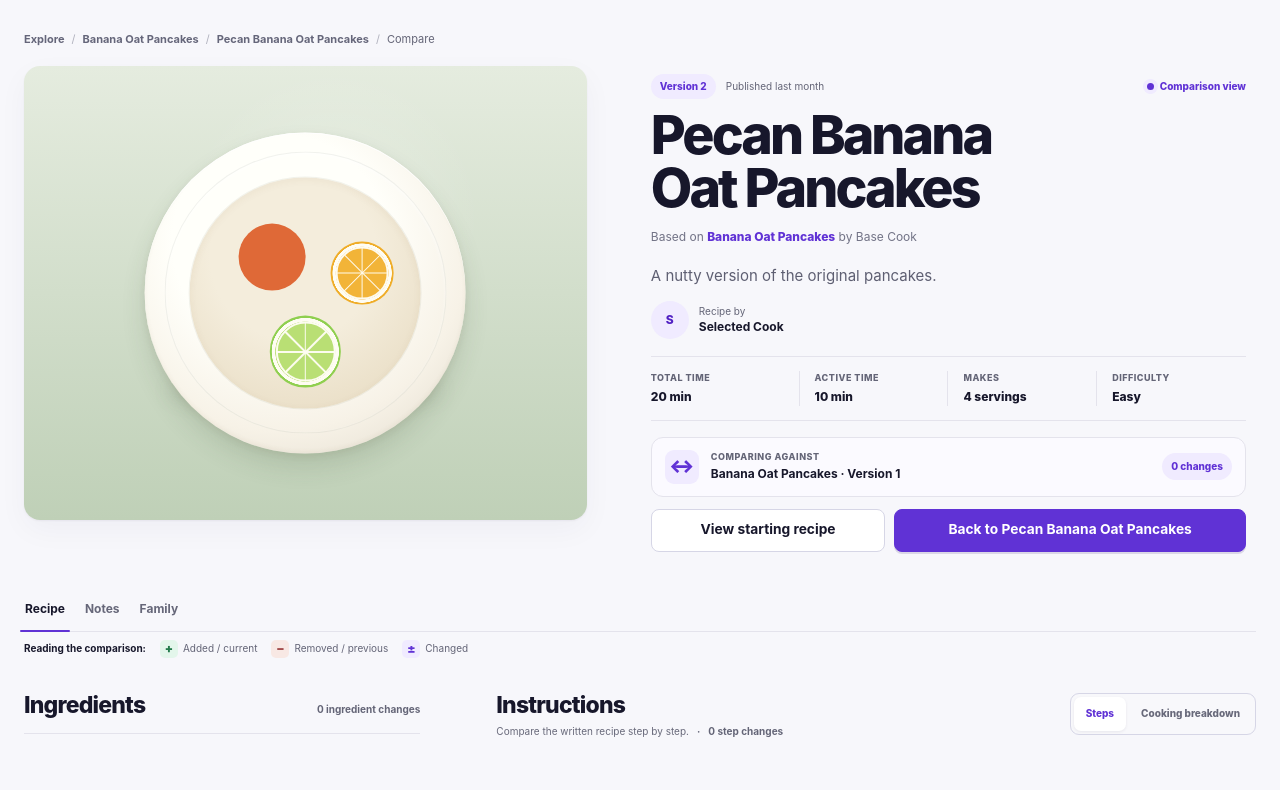
it: RecipeComparePage › keeps the comparison available when the optional family request fails
The image size is (1280, 790).
expect the heading "Pecan Banana Oat Pancakes" is shown: met, box [651,102,991,220]
Step 1. Click the tab "Family" → (159, 615), box [139,600,179,630]
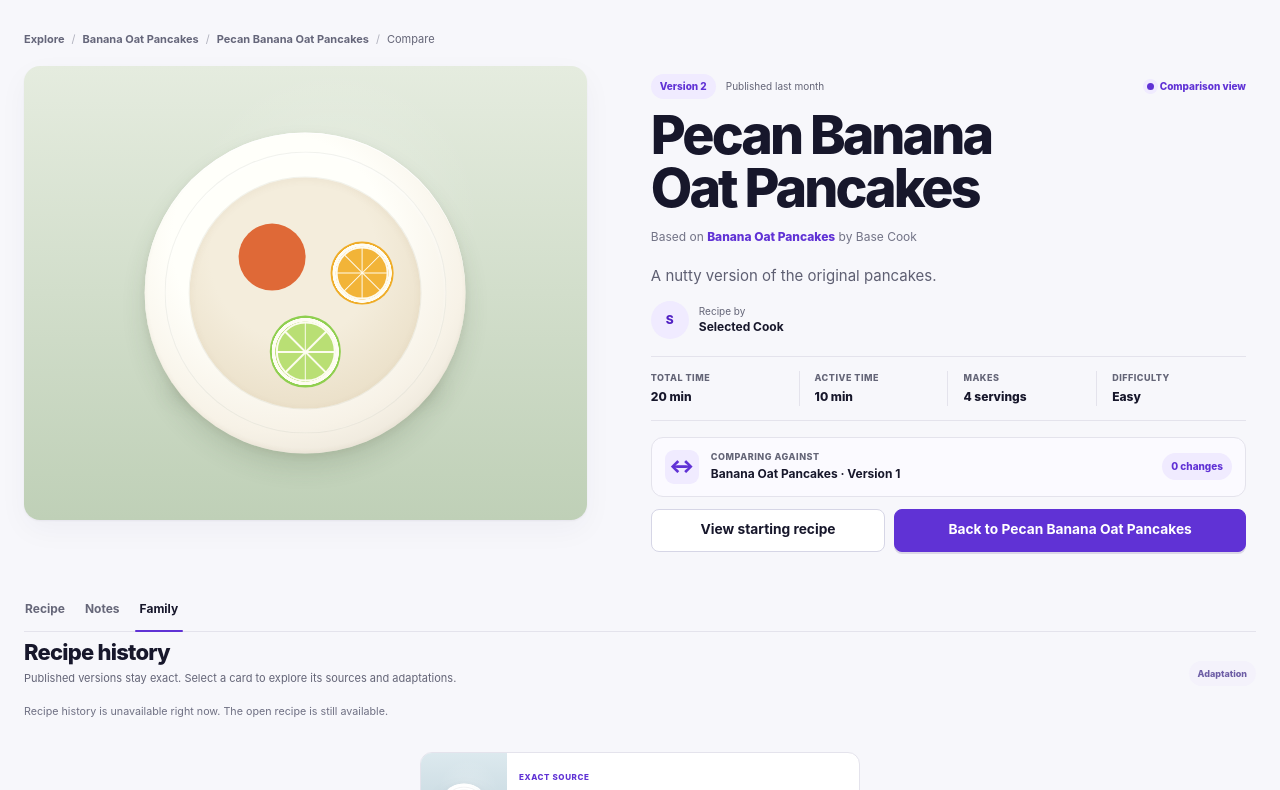
expect the heading "Recipe history" is shown: met, box [24,638,170,664]
